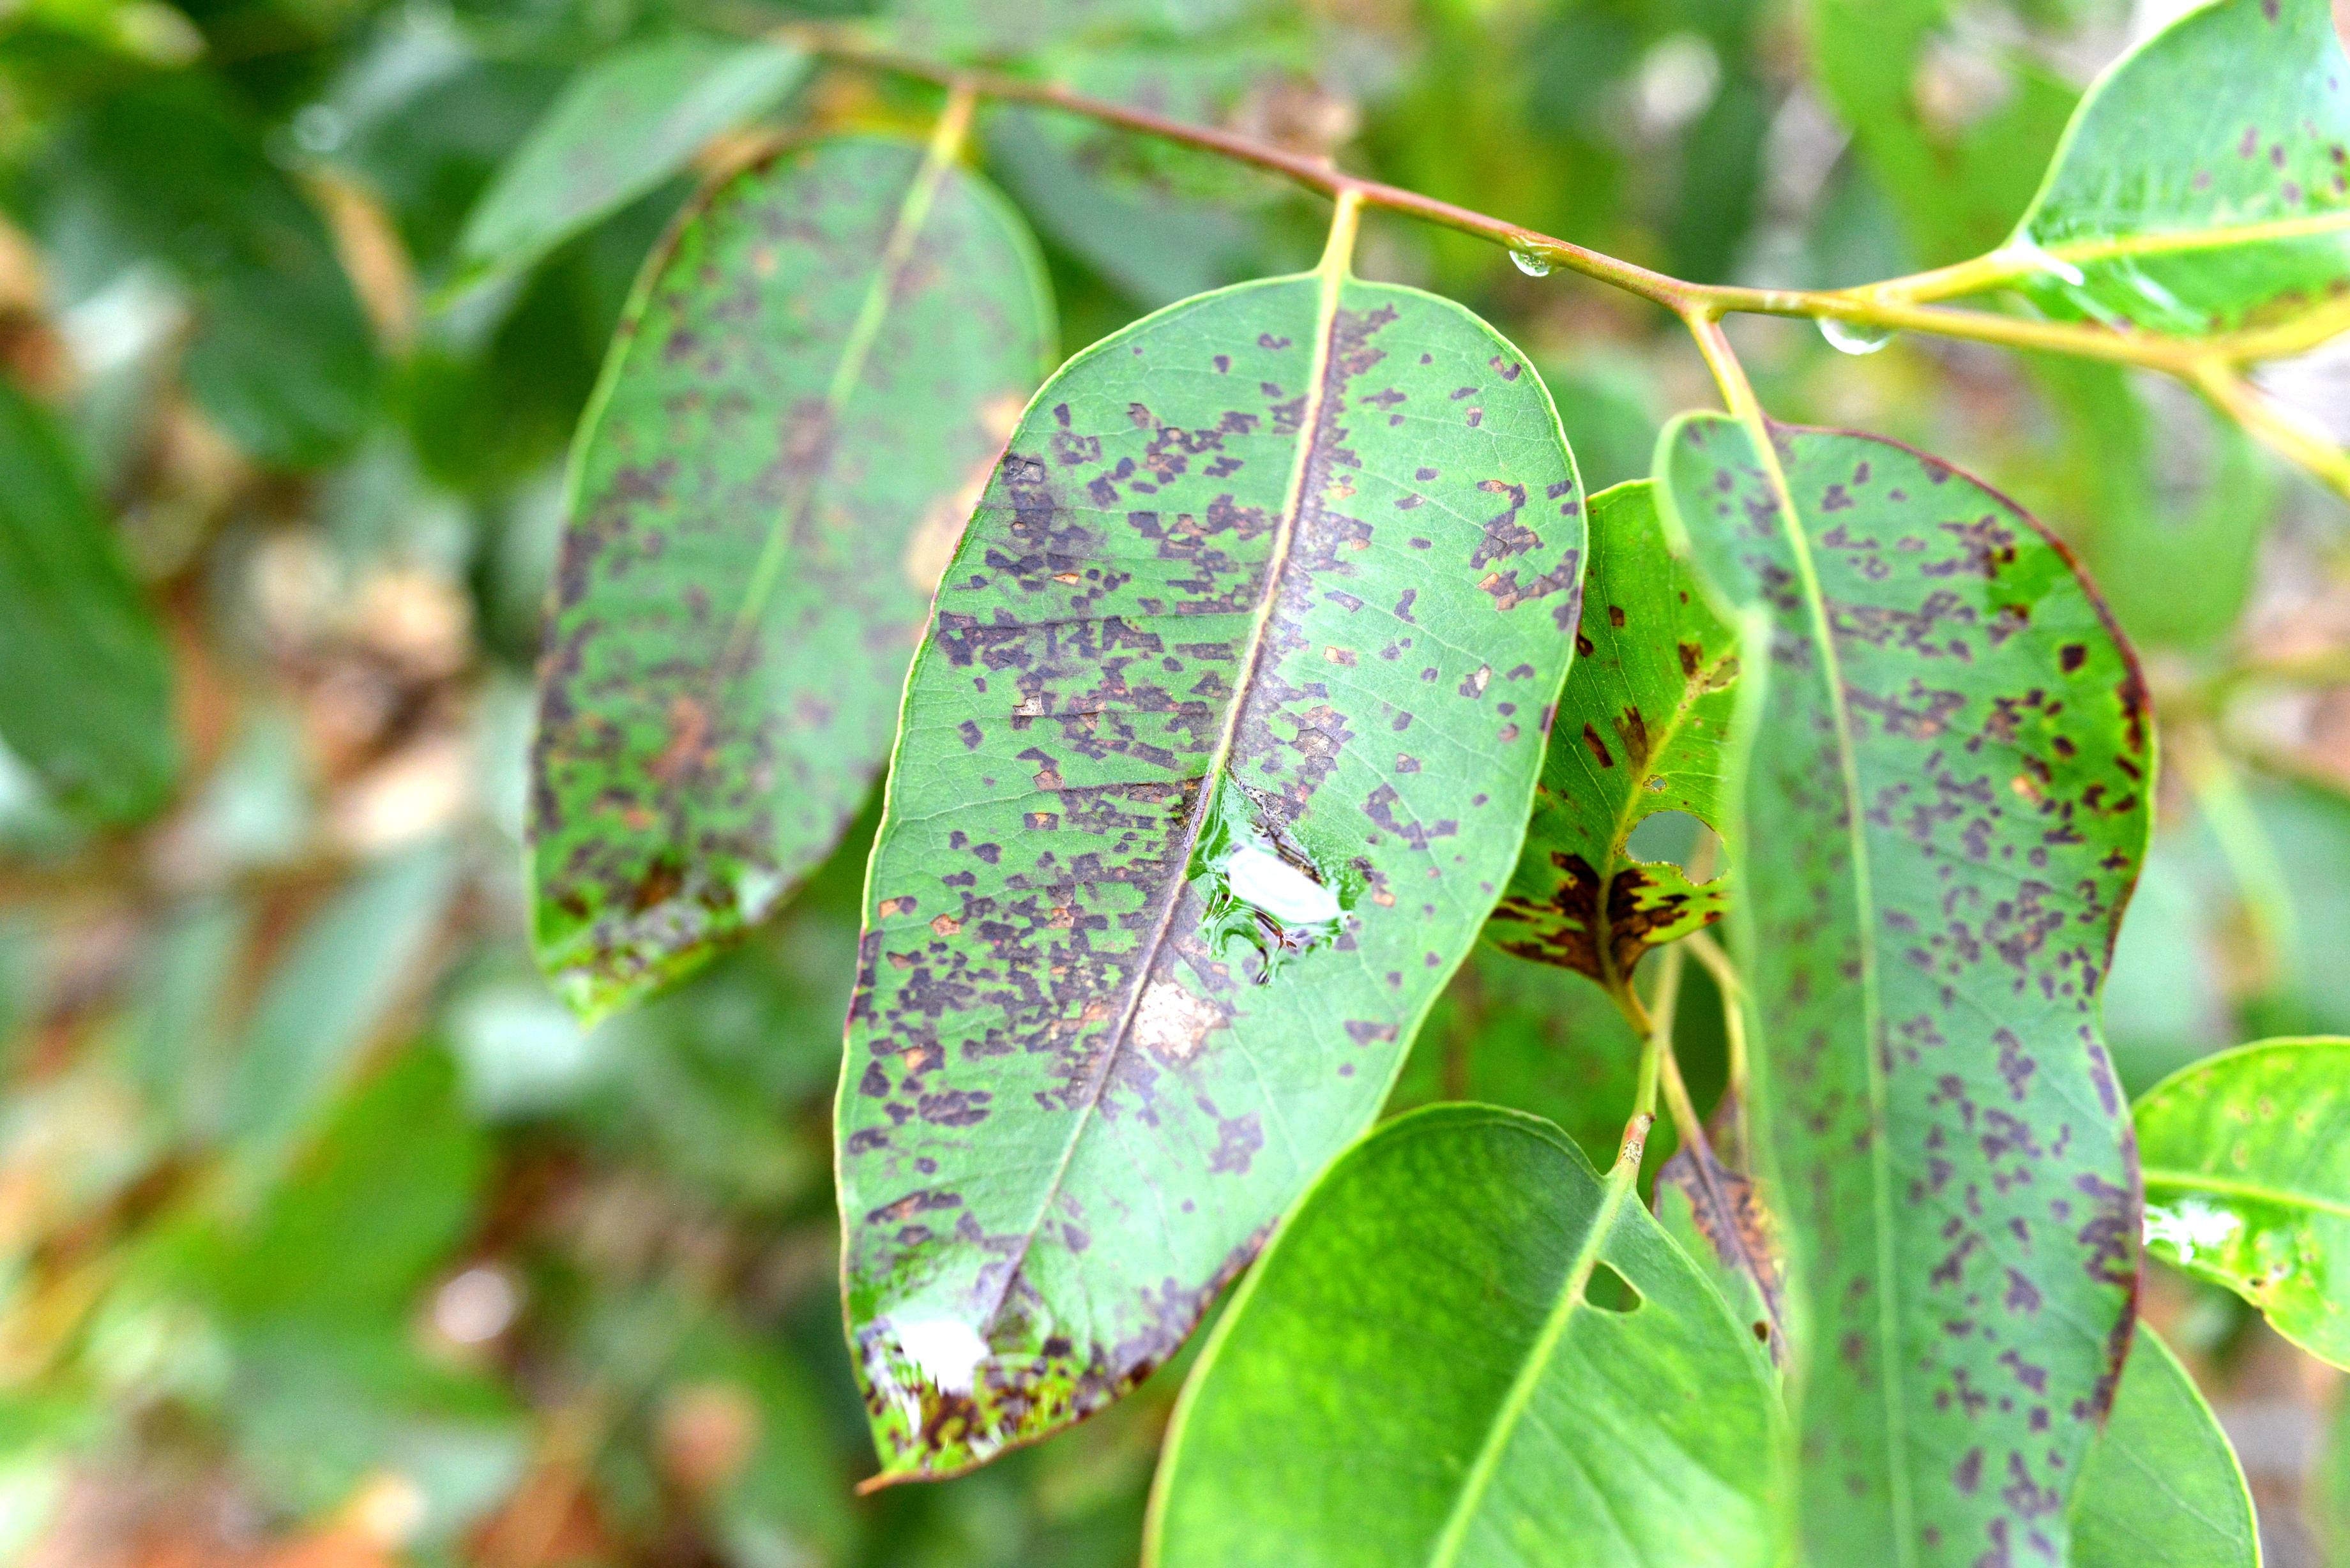Xanthomonas: (518, 135, 1598, 1487), (1659, 413, 2175, 1568)
